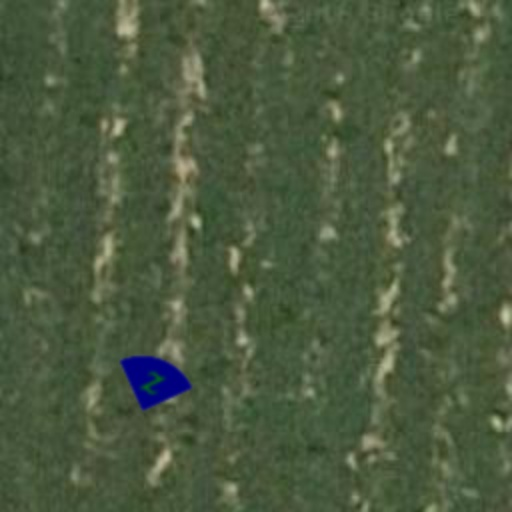quarter_circle: (106, 332, 202, 428)
